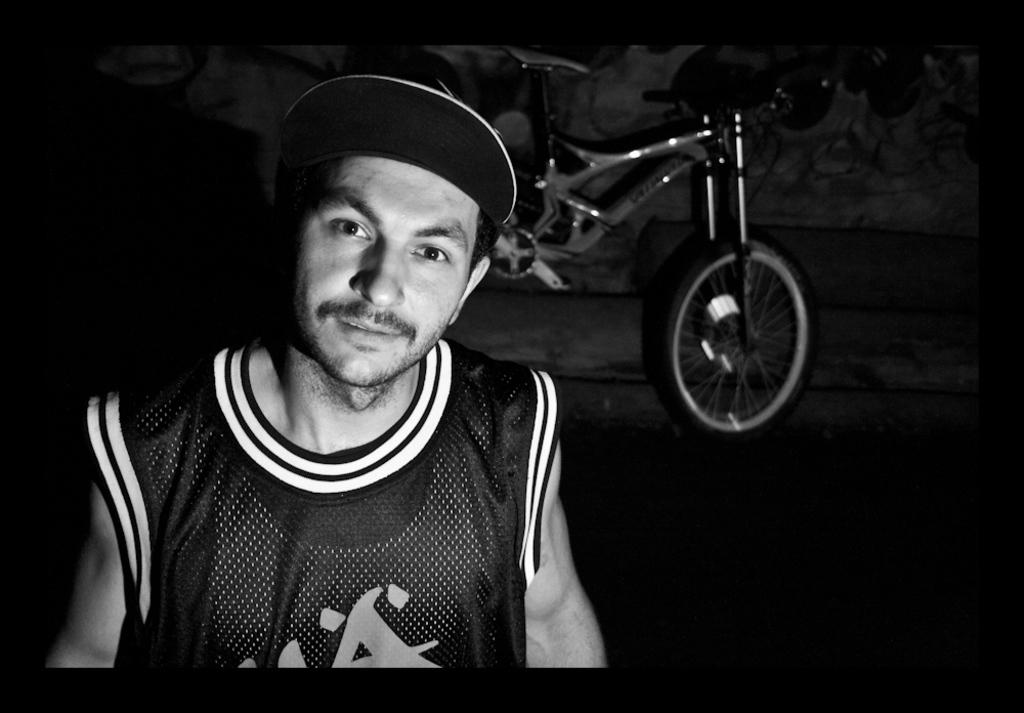Hat: (276, 53, 516, 218)
